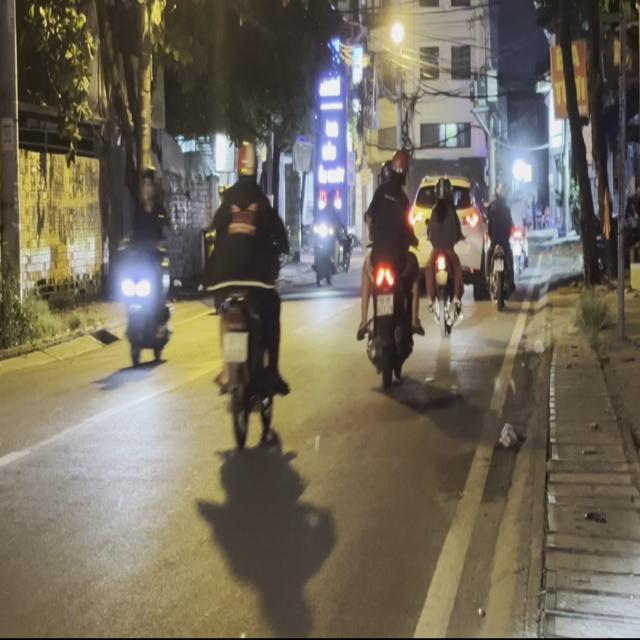helmet: (234, 140, 258, 182), (137, 165, 158, 205), (389, 147, 409, 187)
licenseplate: (201, 136, 291, 449), (354, 144, 422, 386), (114, 162, 180, 370)
nohelmet: (222, 332, 248, 362), (376, 294, 394, 316)
